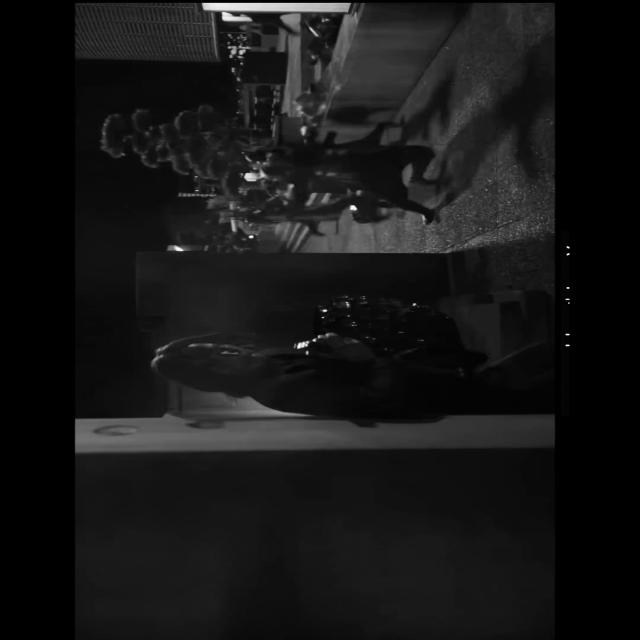weapons: (273, 319, 377, 362)
